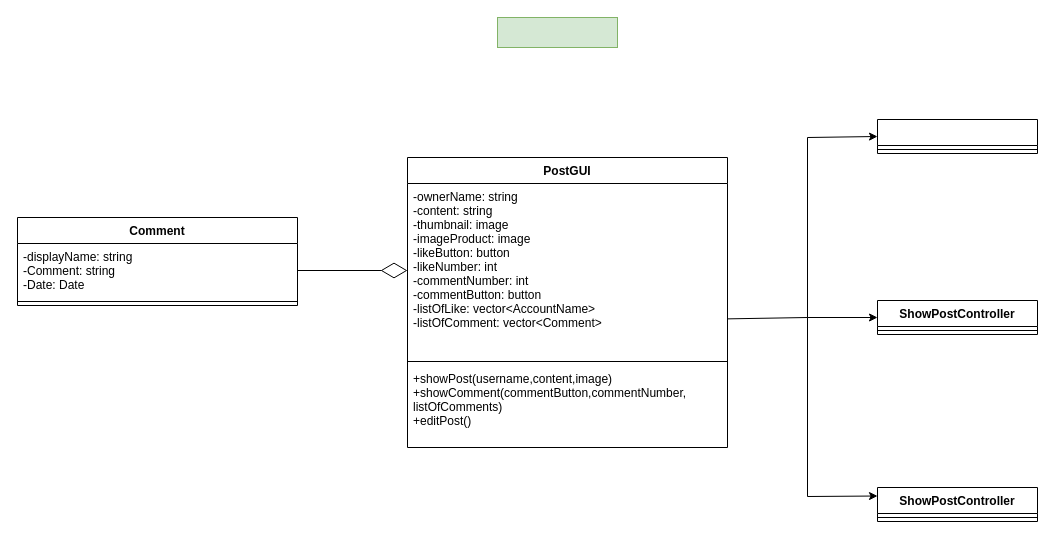
This 1055x539 diagram has some shape labels left out. Here are the shapes that lost their labels. From the top down, the centre of each, then its label:
At point 557,32: "ĐÃ HOÀN THÀNH".
At point 957,136: "PostController".
